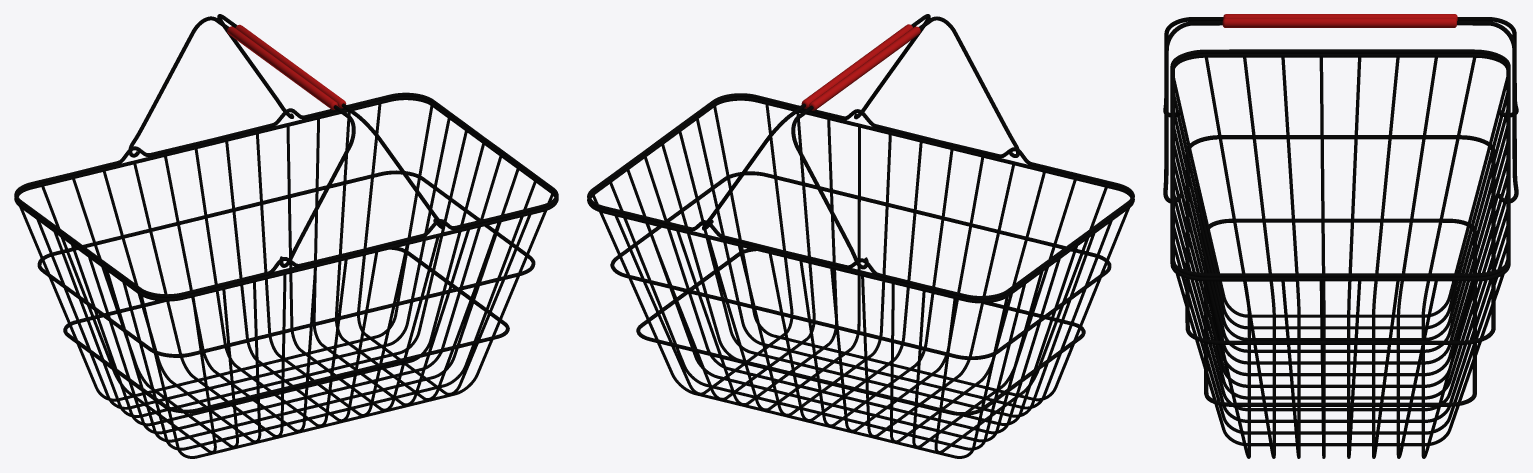
The model's file is Shop_basket.fbx.
3 renders of one model, left to right at view 1: azimuth 30°, elevation 25°; view 2: azimuth 150°, elevation 25°; view 3: azimuth 270°, elevation 25°, orthographic. The views are drawn at different scales.
Parts seen in each view (by area): view 1: Sweep_4_remesh, Handles; view 2: Sweep_4_remesh, Handles; view 3: Sweep_4_remesh, Handles.
Part boxes in pixels (left/top/right/bottom): Sweep_4_remesh: left=14, top=92, right=558, bottom=458; Handles: left=128, top=14, right=444, bottom=267; Sweep_4_remesh: left=587, top=93, right=1134, bottom=458; Handles: left=702, top=14, right=1019, bottom=269; Sweep_4_remesh: left=1170, top=49, right=1510, bottom=458; Handles: left=1163, top=14, right=1518, bottom=203.
Size of the model in its own units: 962 by 736 by 640.
